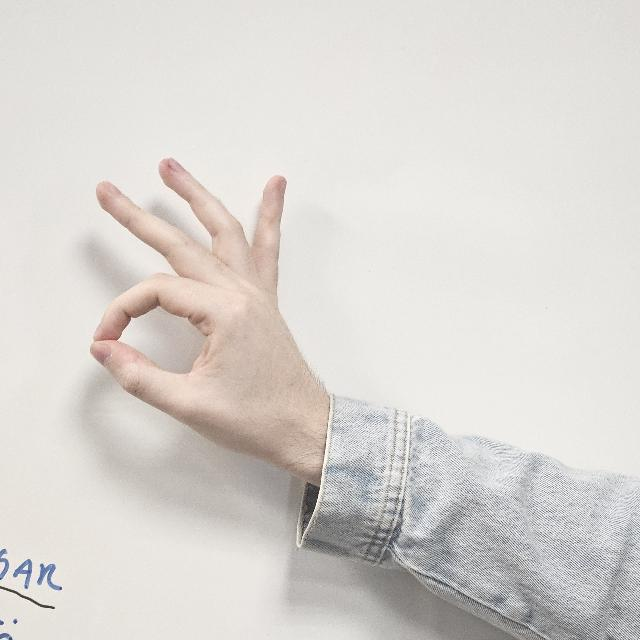Bolinha: (84, 145, 326, 511)
